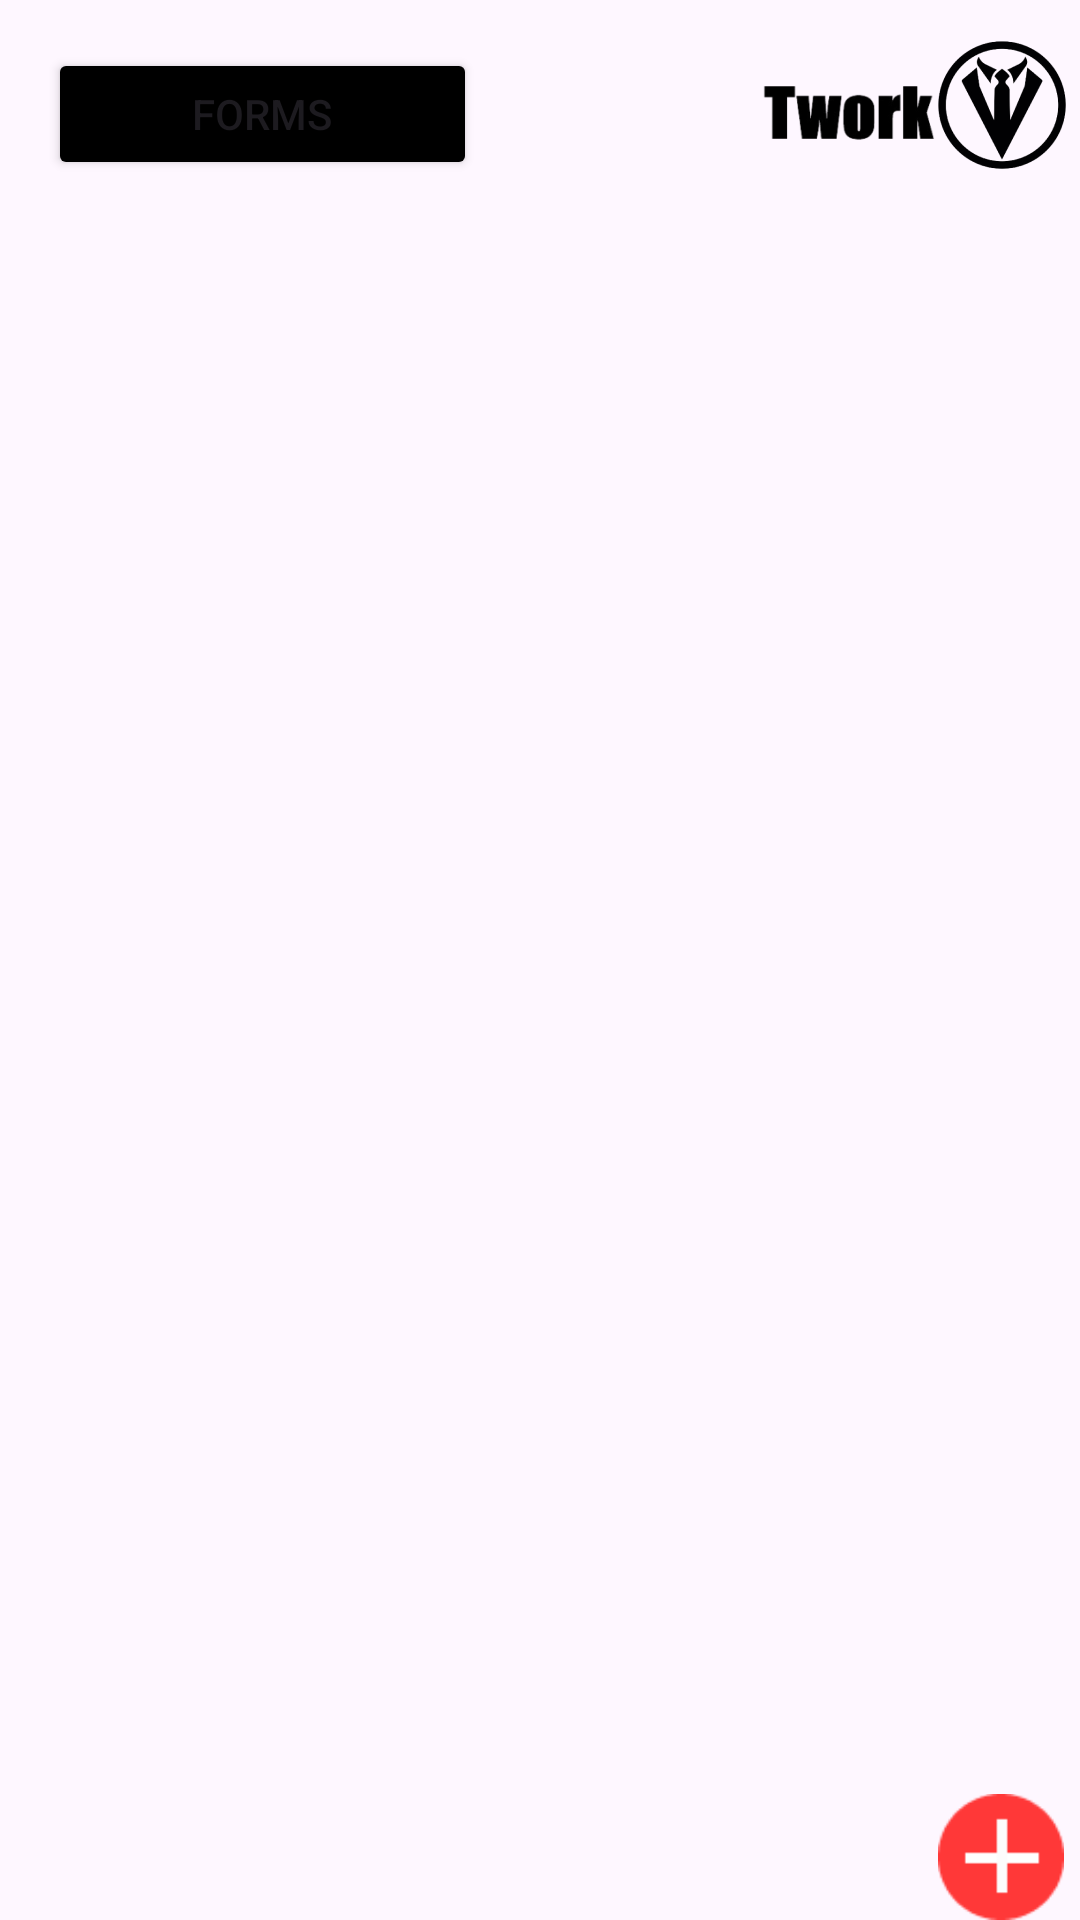

Icons on this 1080px x 1920px Android screen, each with its box as (x1, y1, x2, y2):
plus: (938, 1794, 1064, 1920)
